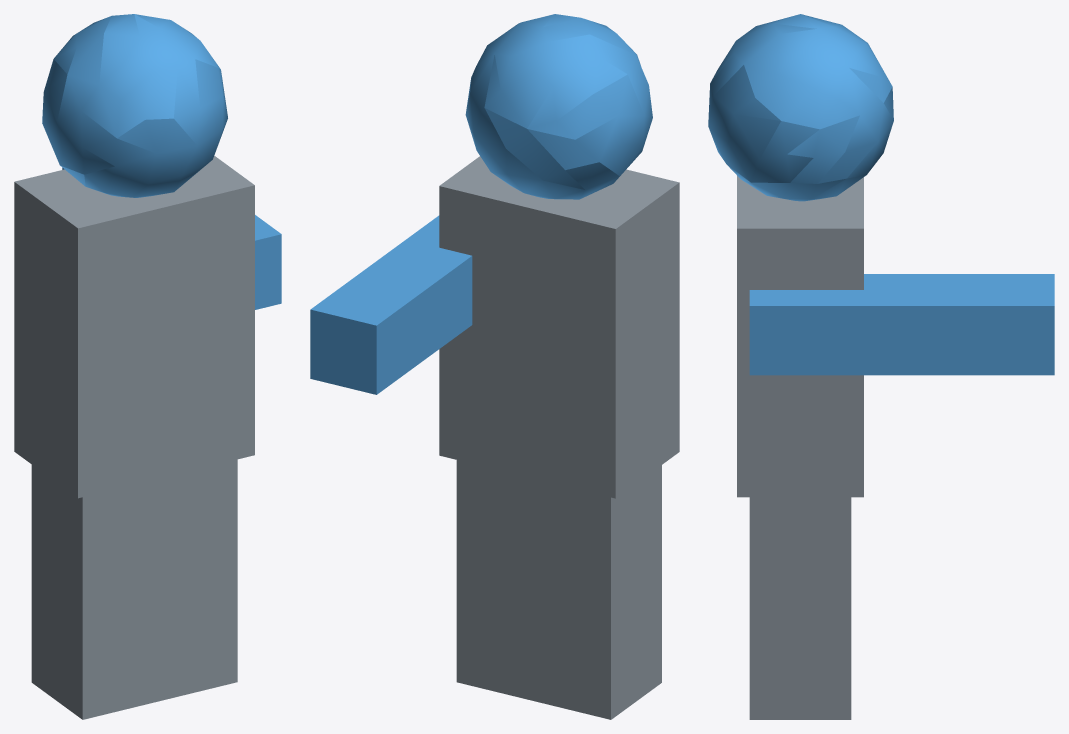
The model's file is AL_FieldEngineer_LOD2.glb.
The picture shows the model from 3 angles, left to right: view 1: azimuth 30°, elevation 25°; view 2: azimuth 150°, elevation 25°; view 3: azimuth 270°, elevation 25°; orthographic projection.
Visible parts, largest first — view 1: Head; view 2: Head; view 3: Head.
Part boxes in pixels (<box>): Head: <box>14,14,281,719</box>; Head: <box>310,14,679,719</box>; Head: <box>708,14,1054,719</box>.
Bounding box in the file's own units: 57 × 171 × 81.81.
